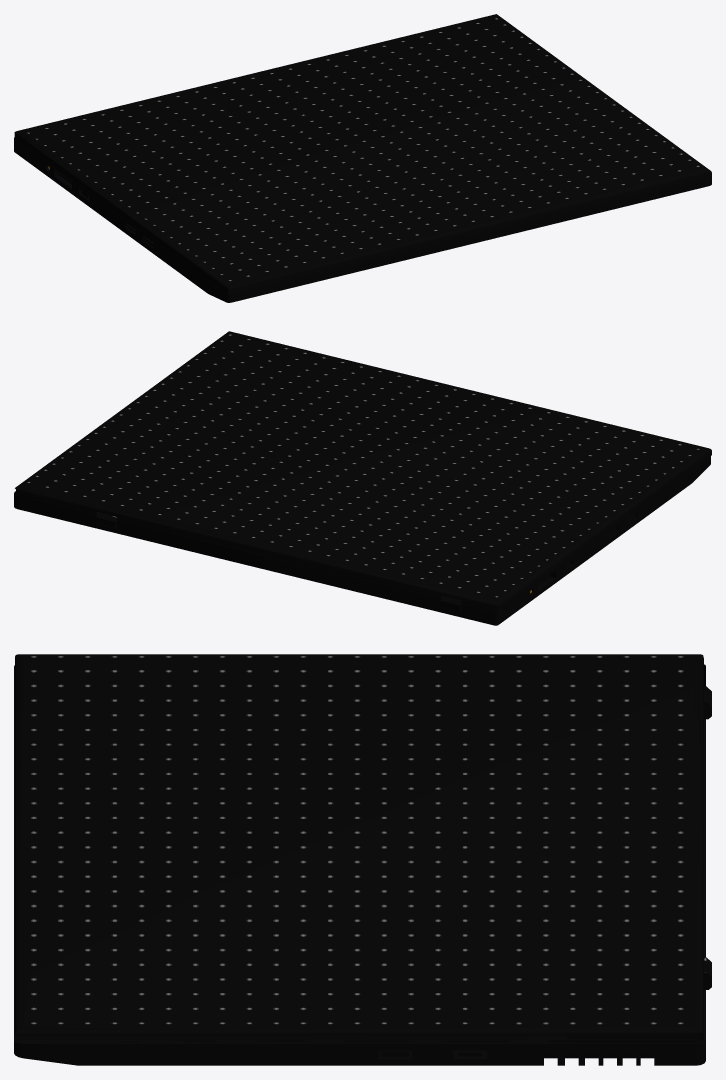
File: Laptop.fbx
The picture shows the model from 3 angles, top to bottom: view 1: azimuth 30°, elevation 25°; view 2: azimuth 150°, elevation 25°; view 3: azimuth 270°, elevation 25°; orthographic projection. The views are drawn at different scales.
Parts seen in each view (by area): view 1: Laptop; view 2: Laptop; view 3: Laptop.
Boxes of the visible parts, x1,y1,x2,y2 form: Laptop: [14, 14, 711, 302]; Laptop: [14, 331, 711, 625]; Laptop: [14, 654, 711, 1065].
Bounding box in the file's own units: 1.01 × 0.0435 × 0.7871.
